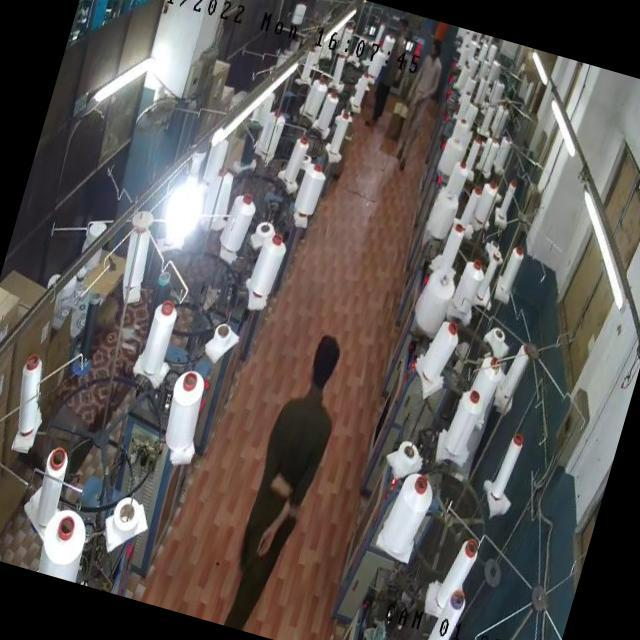person: (222, 327, 348, 636), (396, 34, 449, 170), (367, 19, 410, 128)
